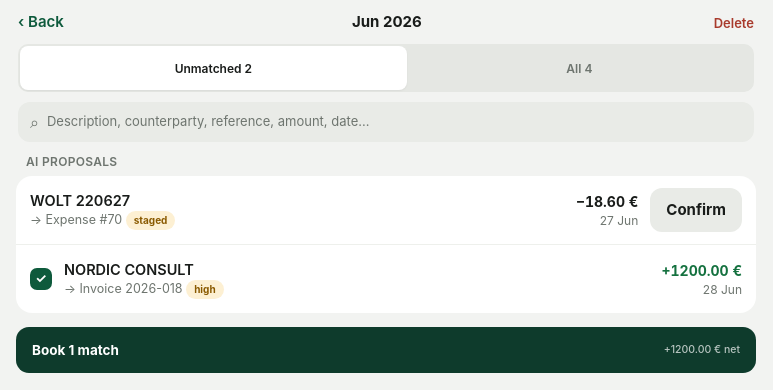
Test: StatementScreen booking › renders a staged draft with a Confirm action that approves its approval
The width and height of the screenshot is (773, 390).
expect the text "staged" is shown: met, box [126,211,175,230]
What coordinates should you click on to do the following:
click the button "Confirm"
I would click on:
 (696, 210)
Its box is [650,188,742,232].
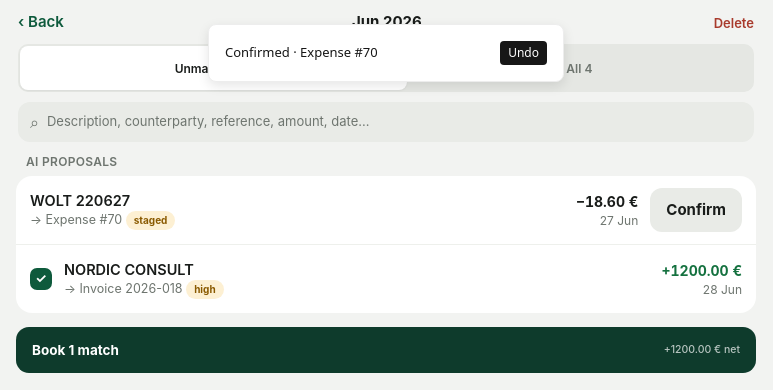
expect the text "Confirmed · Expense #70" is shown: met, box [225,43,378,63]
